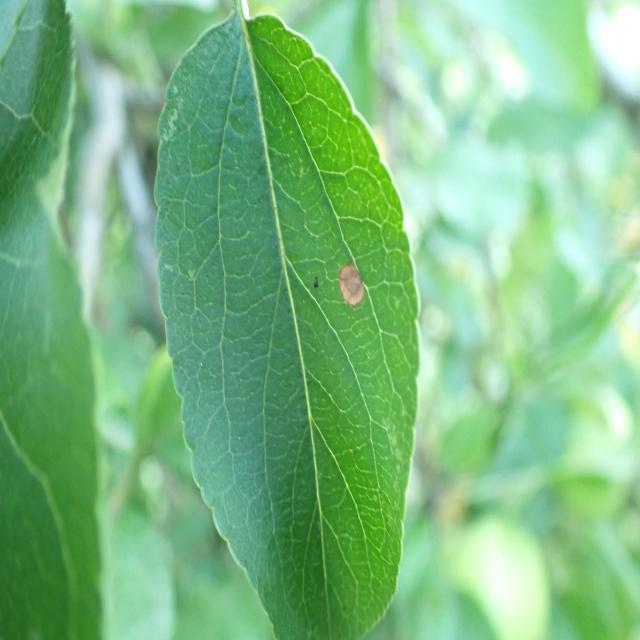Black Rot: (322, 247, 369, 329)
